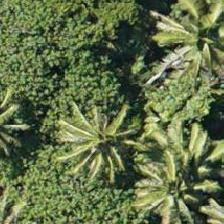coconut_tree: (48, 86, 138, 176), (104, 149, 194, 223), (142, 0, 223, 63)
